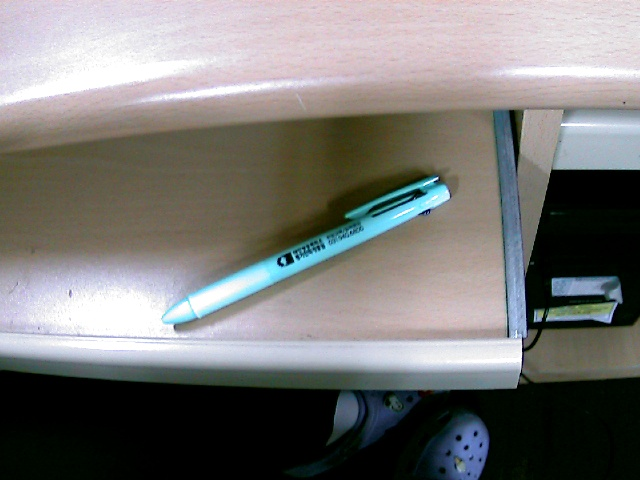pen: (145, 166, 452, 327)
